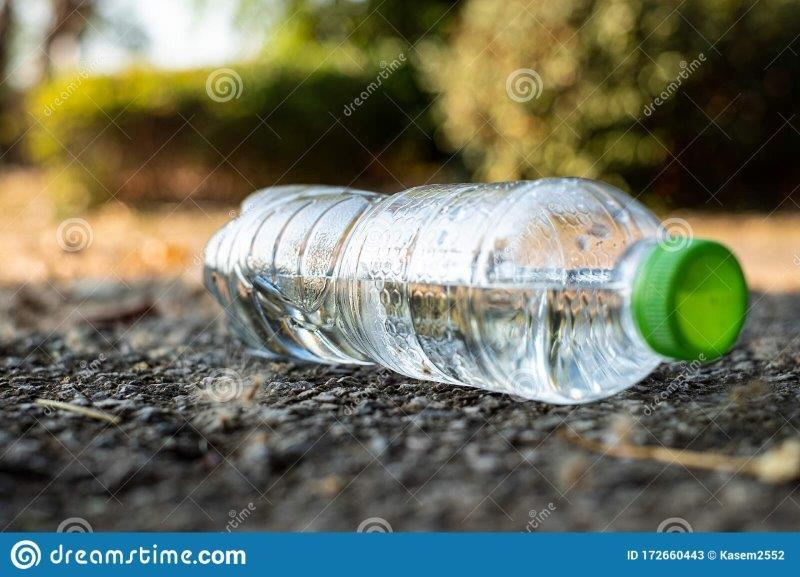plastic: (197, 174, 752, 411)
